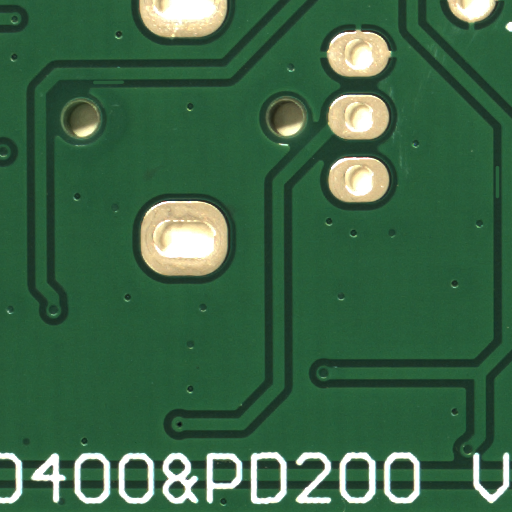Spurious_copper: (496, 181, 504, 214), (106, 82, 141, 89)
